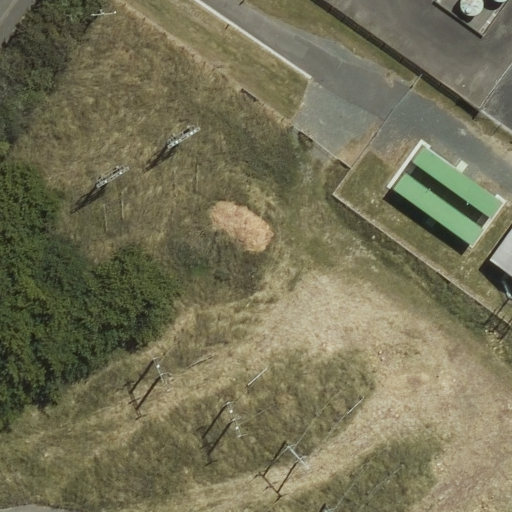DT: (161, 116, 204, 157), (274, 433, 312, 474), (140, 349, 175, 390), (94, 160, 133, 196), (219, 394, 243, 438)
